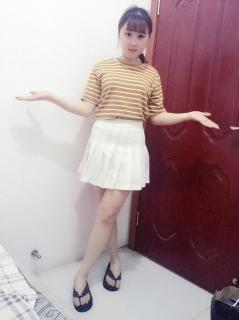short sleeve top: (81, 57, 166, 122)
skirt: (78, 115, 150, 191)
